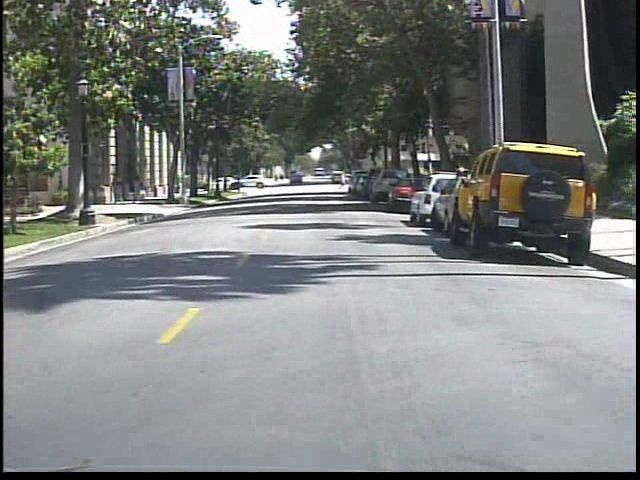person: (109, 172, 130, 207), (128, 174, 149, 207), (338, 169, 352, 193)
